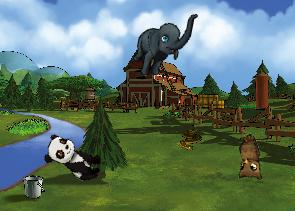elephant: (130, 4, 198, 83)
owl: (226, 132, 267, 185)
panda: (40, 131, 107, 185)
